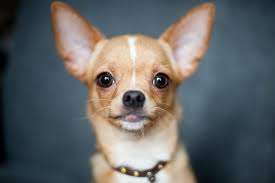chihuahua: (38, 1, 234, 176)
